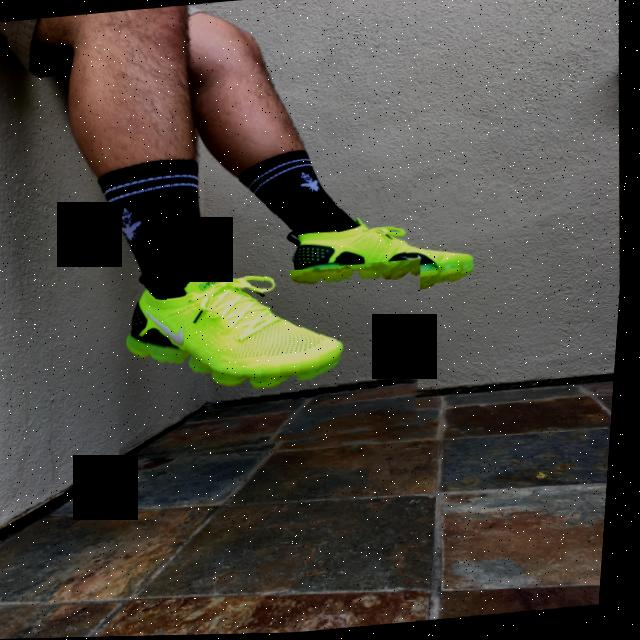shoe: (113, 260, 438, 467), (230, 188, 482, 302)
